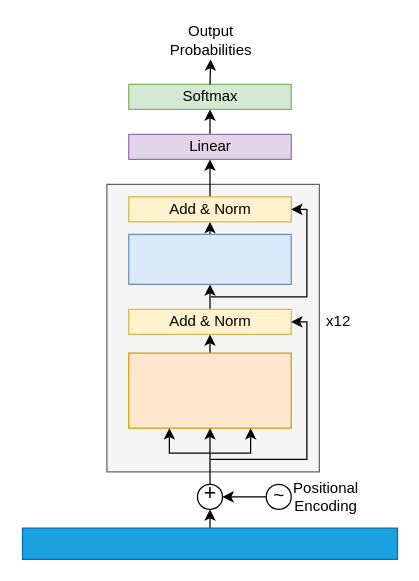
Image size: 419x581. Some labels were removed from this diagram. The box of each missing label's shape, as (x1, y1, x2, y2) in pixels:
Feed Forward: (128, 233, 291, 284)
Input Embeddings: (21, 527, 398, 559)
Masked Multi-Head Attention: (128, 352, 291, 428)
